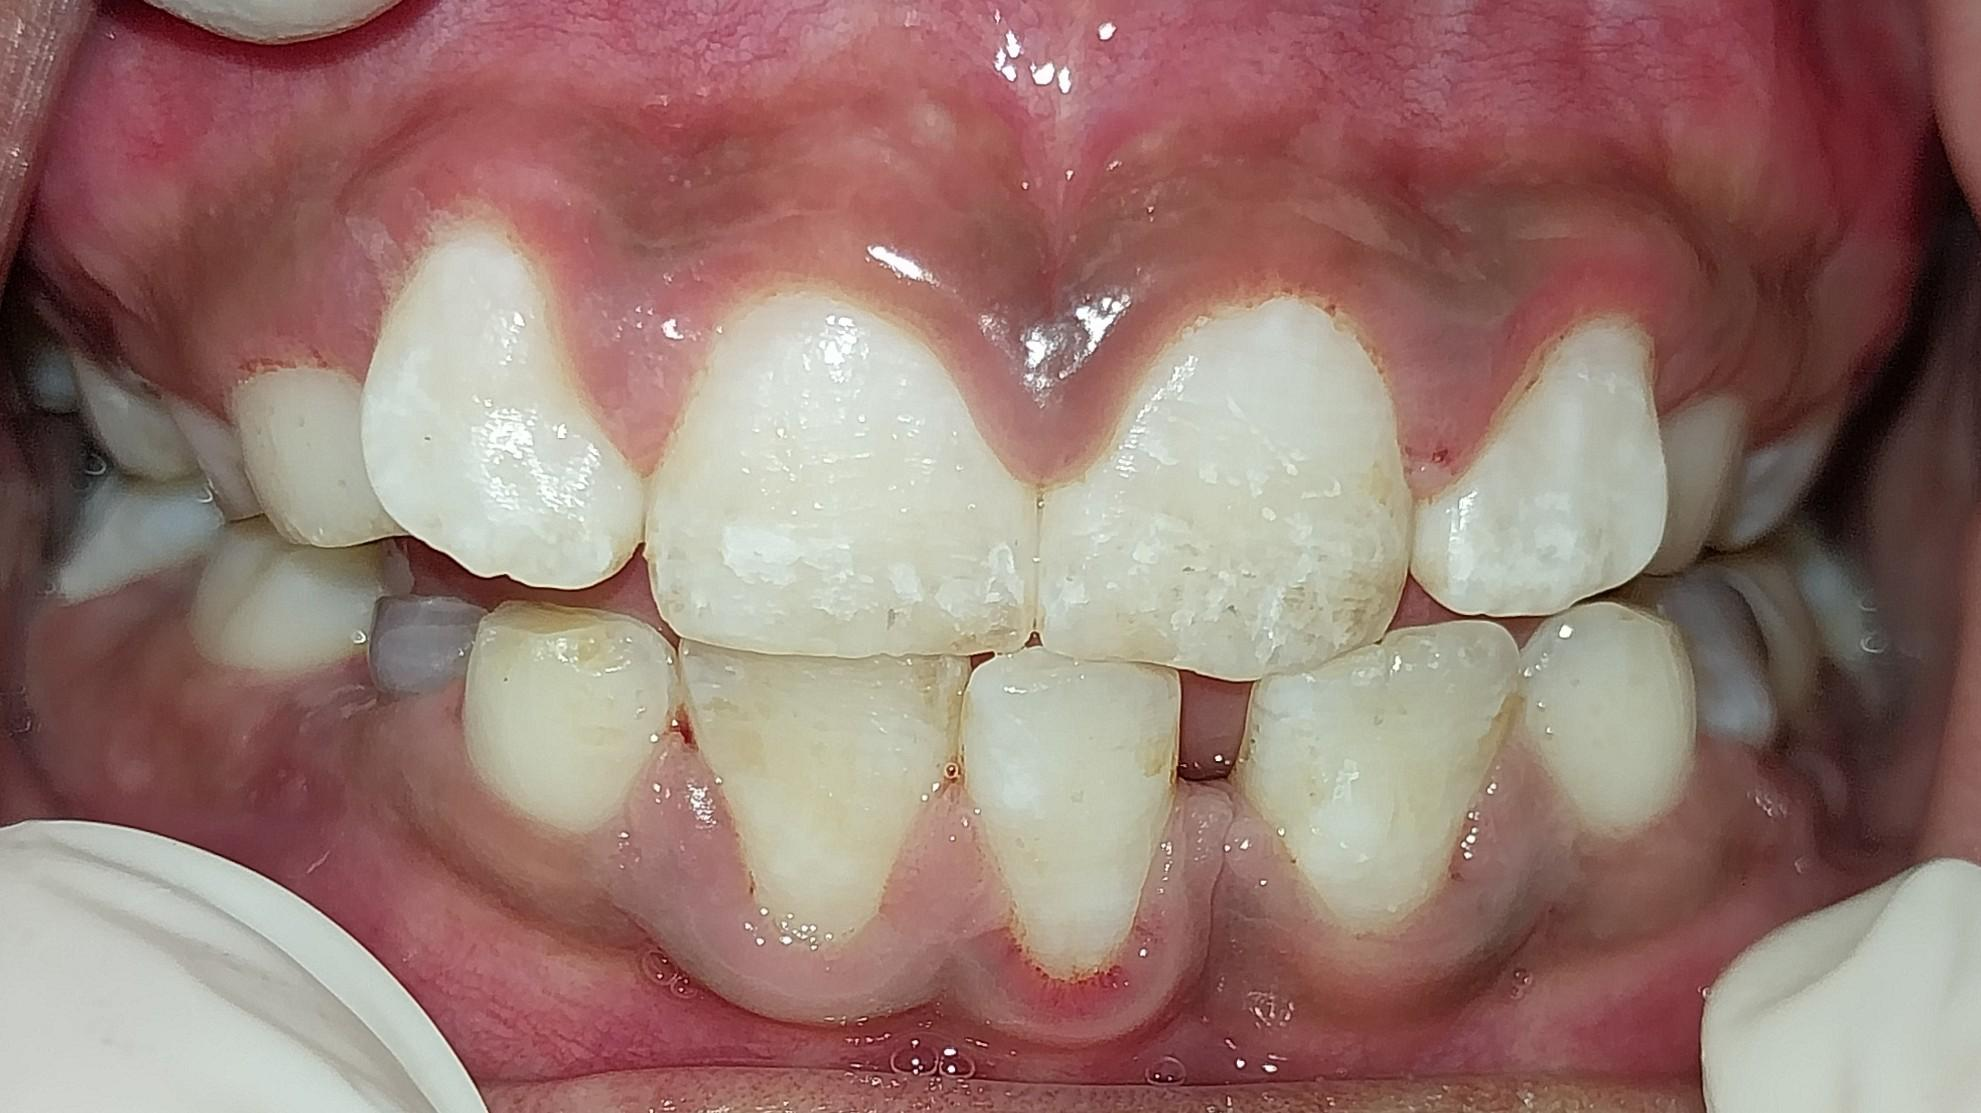d: (328, 571, 494, 722)
